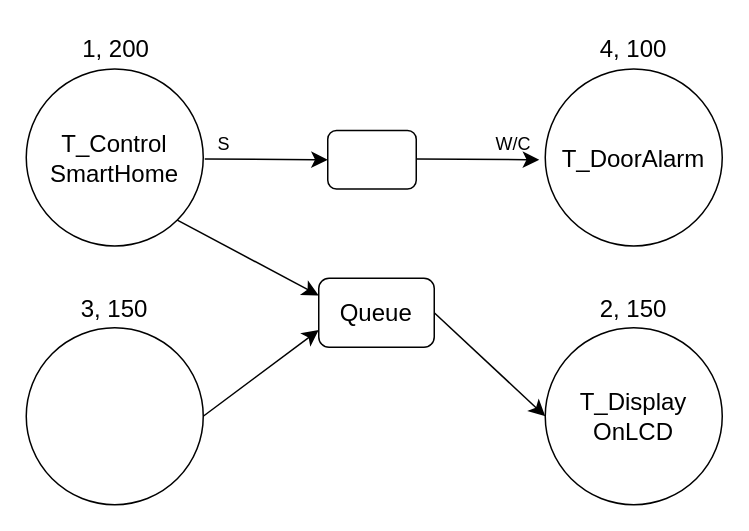
Image size: 749x531. Some labels were removed from this diagram. Each missing label, with the box of its shape:
Event Group: (326, 129, 416, 189)
T_Get Temperature: (25, 326, 203, 505)
